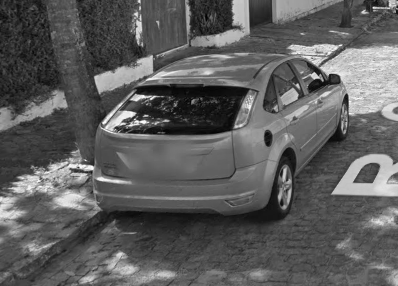car: (89, 49, 352, 229)
